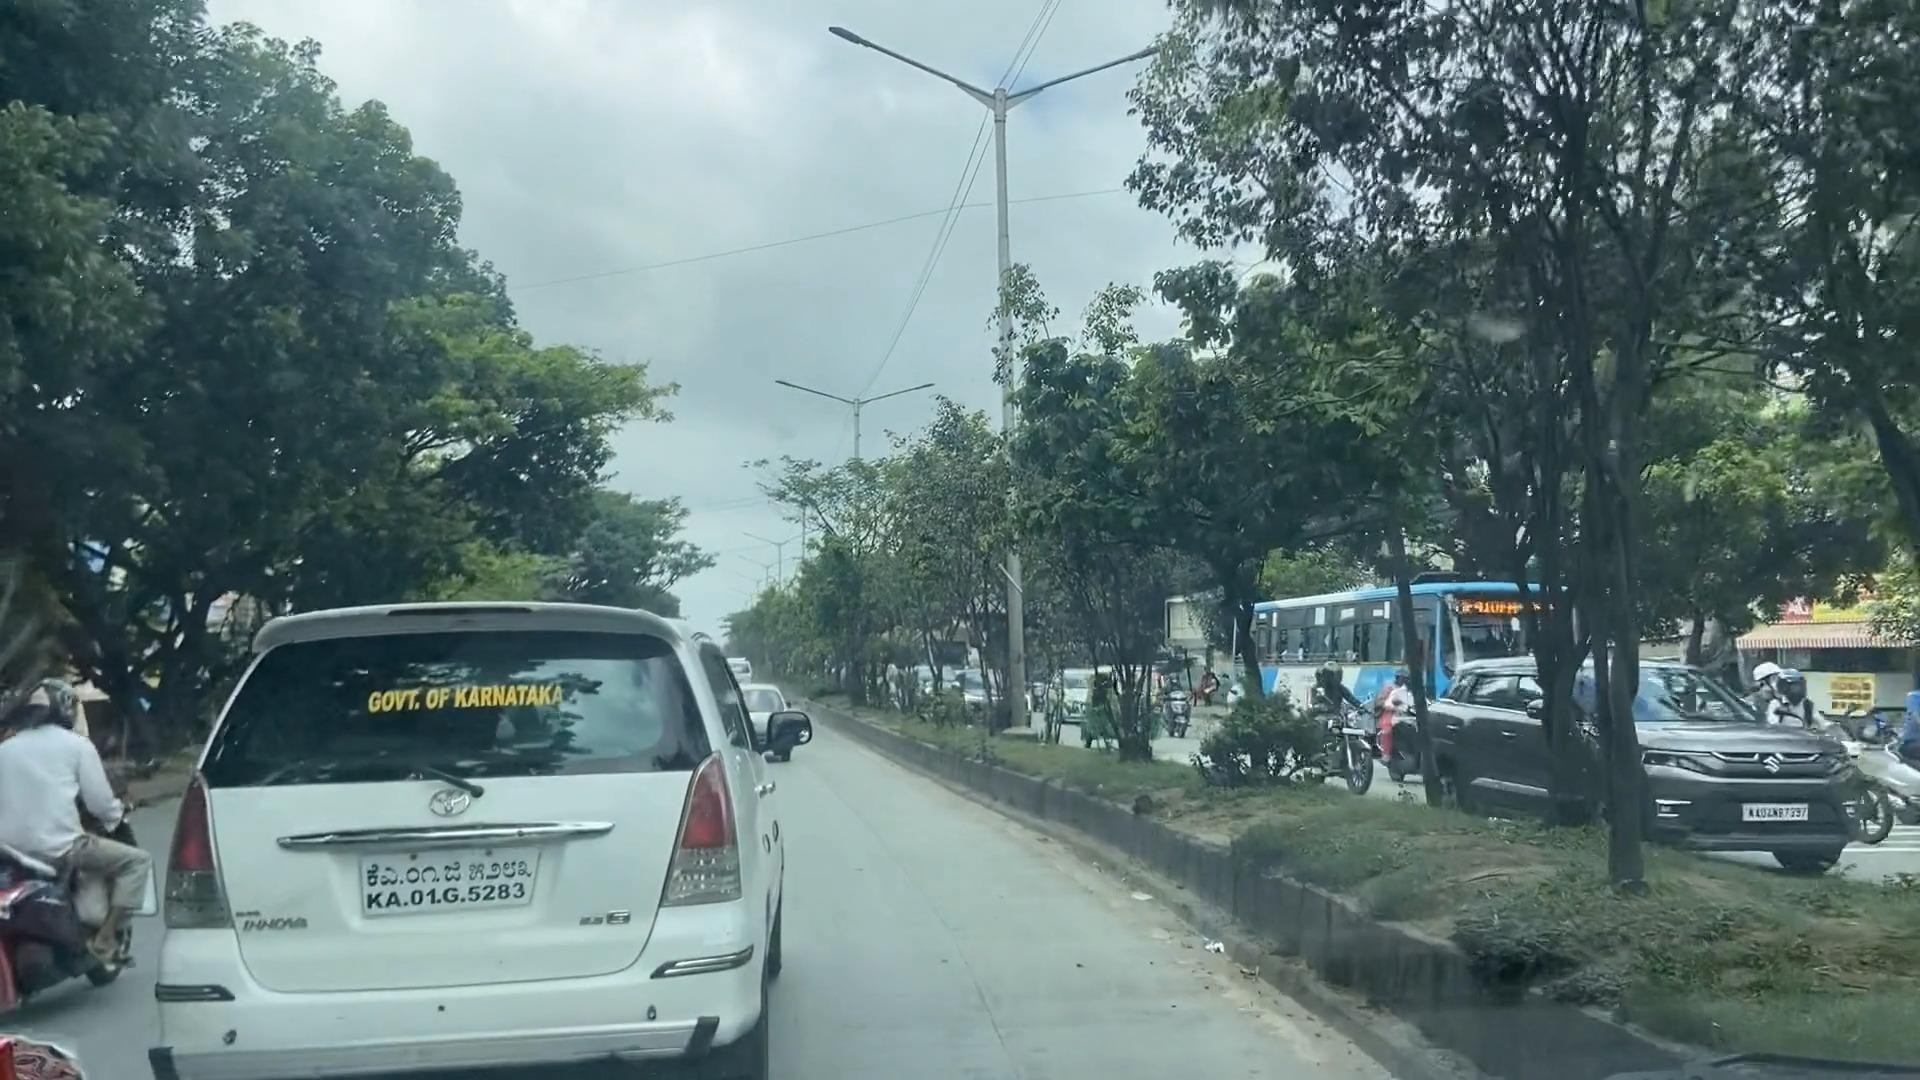LMV: (0, 661, 181, 1025)
